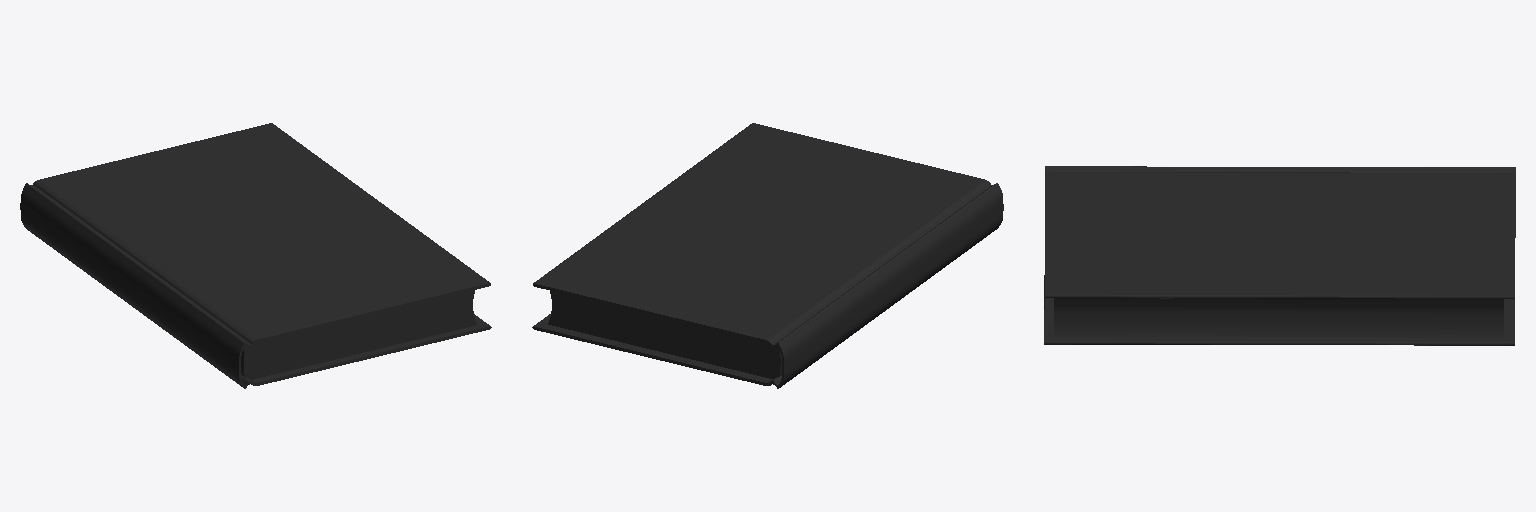
robot.urdf — book:
<robot name="book">
  <link name="book">
      <inertial>
        <mass value="0.4" />
        <origin xyz="0 0 0.1" rpy="0 0 0"/>
        <!--<inertia ixx="0.00125" ixy="0" ixz="0" iyy="0.00125" iyz="0" izz="0.0025" />-->
        <inertia ixx="0.00" ixy="0" ixz="0" iyy="0.00" iyz="0" izz="0.00" />
      </inertial>

      <visual>
          <origin xyz="0 0 0" rpy="0 0 0" />
        <geometry>
          <mesh filename="package://mcr_gazebo_worlds/common/objects/models/book.dae" scale="0.084656 0.085106 0.06087"/>
        </geometry>
        <material name="LightGrey" />
      </visual>

      <collision>
        <origin xyz="0 0 0.0" rpy="0 0 0" />
        <geometry>
          <mesh filename="package://mcr_gazebo_worlds/common/objects/models/book.dae" scale="0.084656 0.085106 0.06087"/>
        </geometry>
     </collision>
  </link>
  <gazebo reference="book">
    <material>Gazebo/Grey</material>
  </gazebo>
</robot>

--- Render facts (derived) ---
Views: 3 orthographic renders of the robot side by side, from view 1: azimuth 30°, elevation 25°; view 2: azimuth 150°, elevation 25°; view 3: azimuth 270°, elevation 25°.
Model book with 1 links and 0 joints (none), rooted at book, posed every joint at zero.
Visible links, largest first — view 1: book; view 2: book; view 3: book.
Boxes of the visible links, x1,y1,x2,y2 form: book: [20, 123, 491, 388]; book: [532, 123, 1003, 388]; book: [1044, 166, 1515, 345].
Size in the robot's own frame: 0.4076 by 0.6116 by 0.0724 metres.
1 mesh visuals loaded from 1 distinct referenced files (1 Collada DAE).